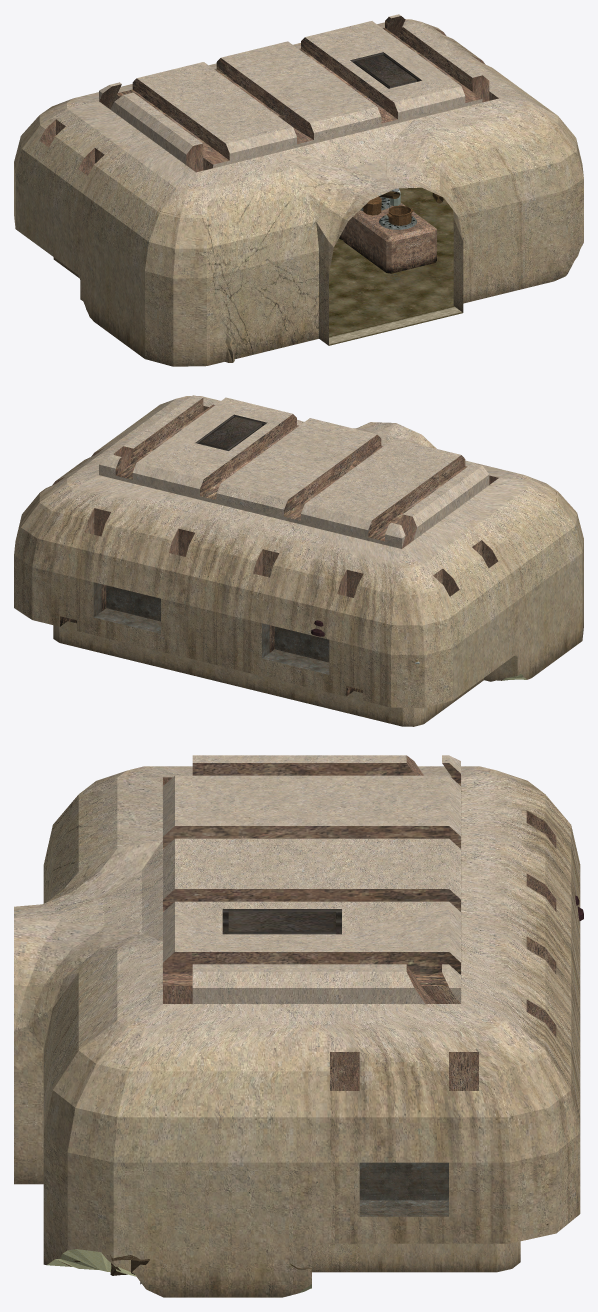
The model's file is thm_tato_jabbas_palace_r14_kitchen_mesh_r14.fbx.
3 renders of one model, top to bottom at view 1: azimuth 30°, elevation 25°; view 2: azimuth 150°, elevation 25°; view 3: azimuth 270°, elevation 25°, orthographic. The views are drawn at different scales.
Visible parts, largest first — view 1: mesh_node; view 2: mesh_node; view 3: mesh_node.
Part boxes in pixels (x1,y1,x2,y2): mesh_node: (14, 14, 583, 366); mesh_node: (14, 395, 583, 726); mesh_node: (14, 755, 583, 1297).
Bounding box in the file's own units: 13.05 × 5.04 × 9.56.
